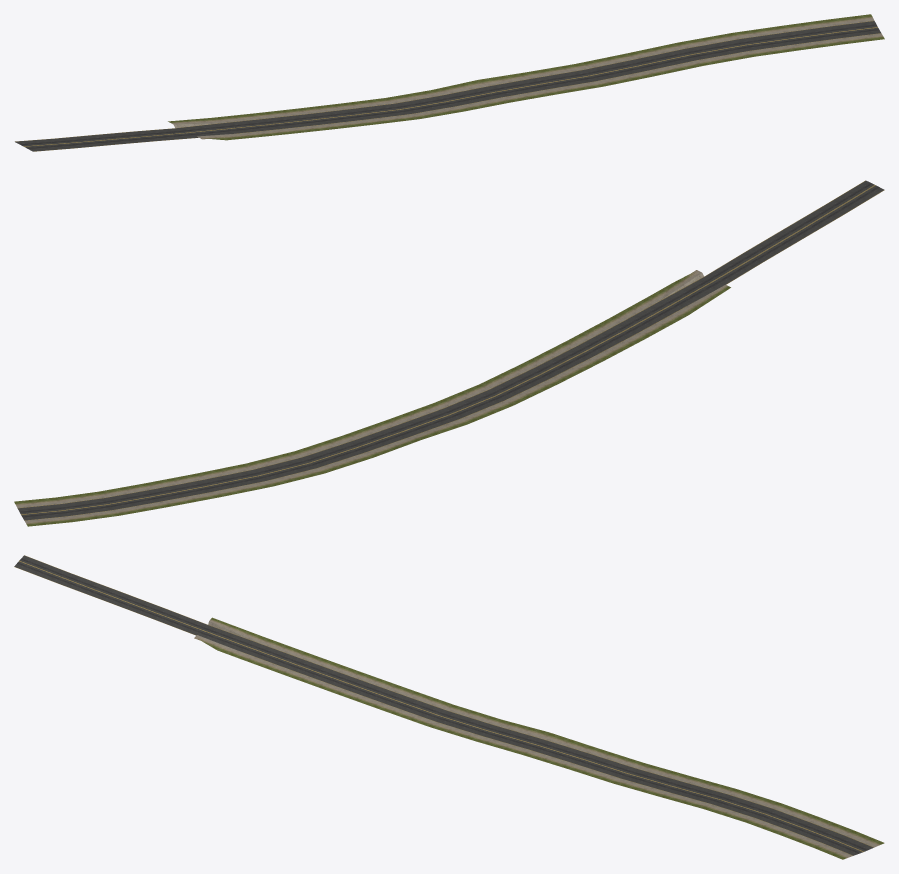
Rendered from cunte_roads89.obj.
The picture shows the model from 3 angles, top to bottom: view 1: azimuth 30°, elevation 25°; view 2: azimuth 210°, elevation 25°; view 3: azimuth 330°, elevation 25°; orthographic projection. The views are drawn at different scales.
Visible parts, largest first — view 1: cunte_roads89; view 2: cunte_roads89; view 3: cunte_roads89.
Boxes of the visible parts, <box> form: cunte_roads89: <box>15,14,884,151</box>; cunte_roads89: <box>14,180,884,526</box>; cunte_roads89: <box>14,555,884,859</box>.
Size of the model in its own units: 334 by 38.4 by 39.36.
